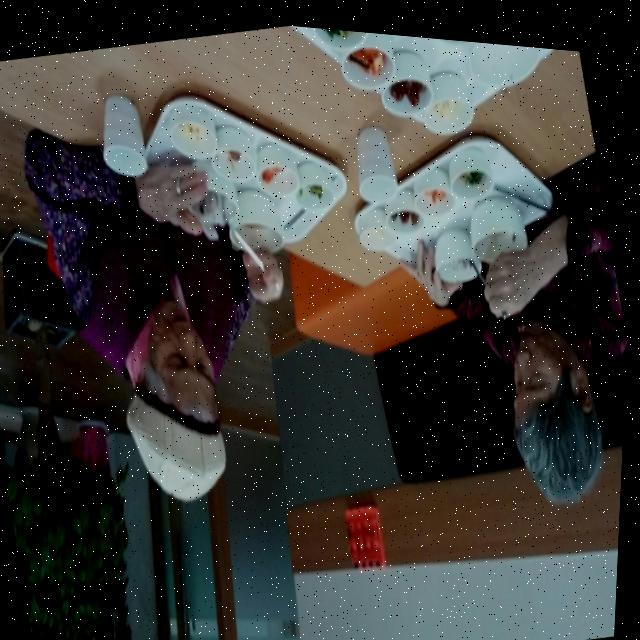eating-person: (0, 41, 416, 560), (314, 67, 638, 563)
